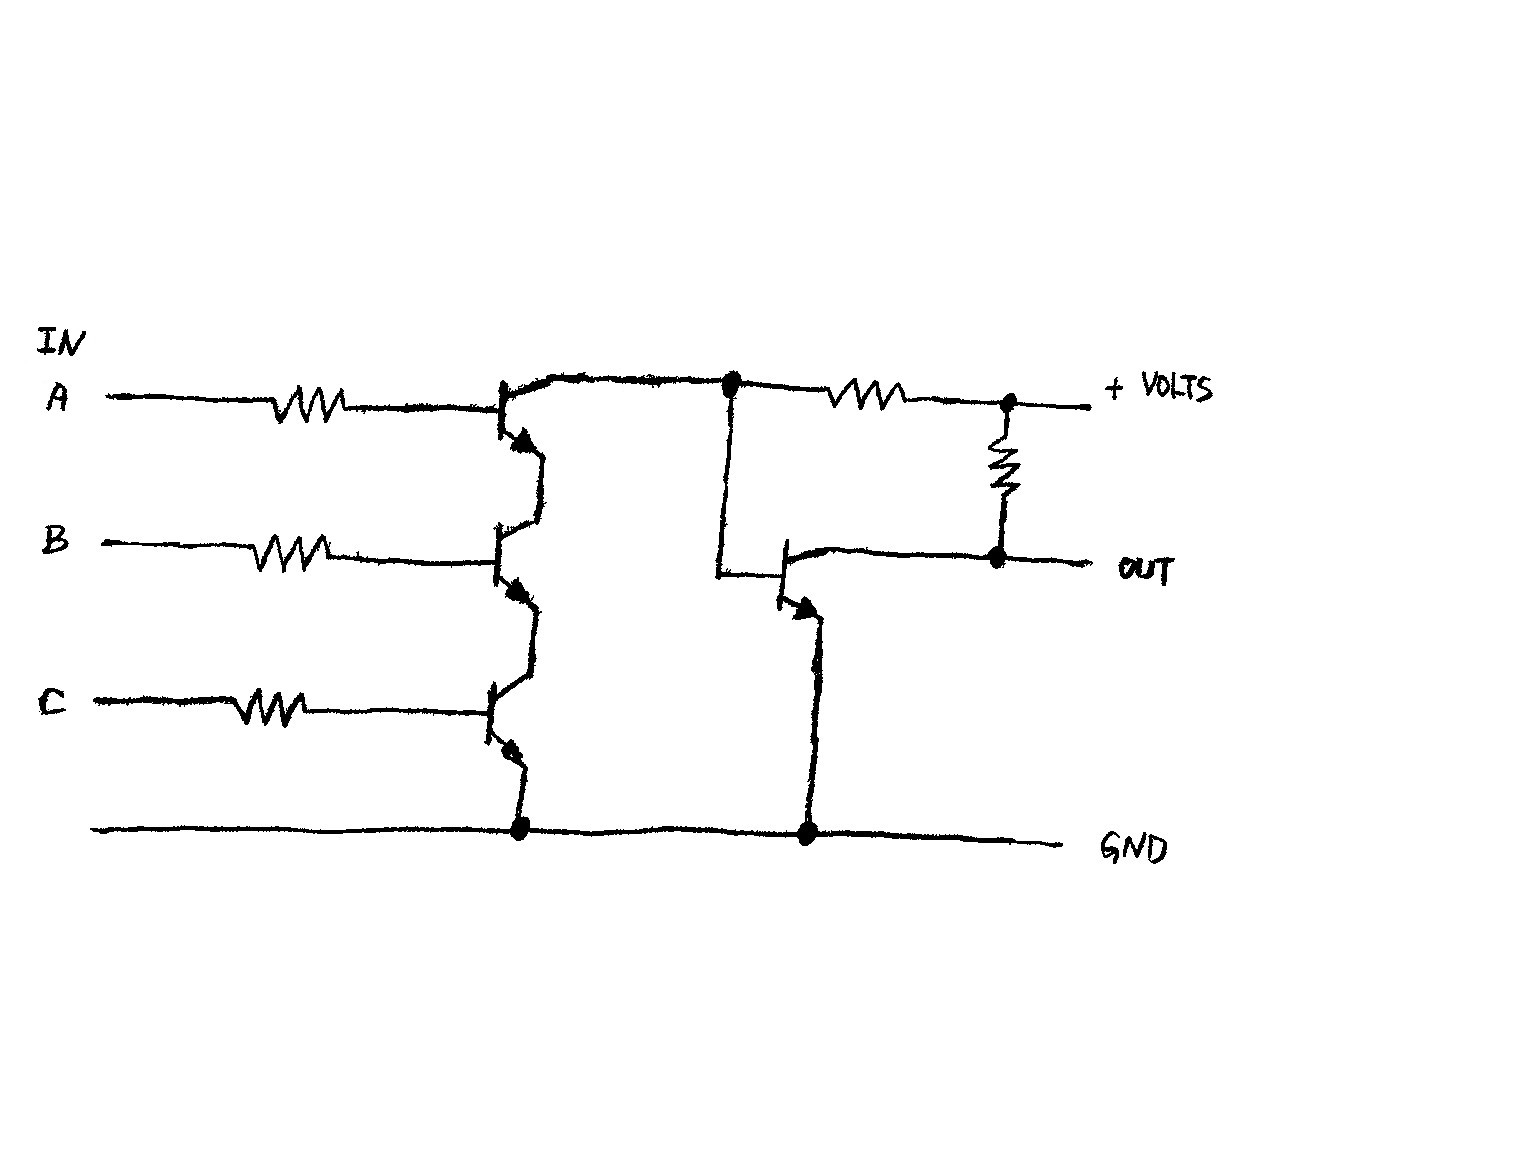junction: (783, 807, 834, 857), (494, 800, 541, 849), (976, 537, 1023, 579), (990, 371, 1024, 418), (716, 363, 747, 406)
resistor: (262, 382, 356, 428), (225, 685, 317, 731), (247, 529, 337, 575), (817, 375, 913, 414), (985, 429, 1023, 507)
terminal: (1076, 549, 1099, 574), (81, 819, 104, 841), (1050, 833, 1070, 856), (98, 387, 119, 407), (94, 532, 113, 552), (88, 689, 106, 710), (1080, 398, 1097, 415)
text: (1113, 537, 1184, 597), (1096, 818, 1171, 872), (1139, 363, 1217, 408), (30, 308, 93, 362), (22, 667, 72, 728), (35, 373, 81, 427), (33, 514, 81, 565), (1099, 368, 1128, 412)
transistor.bjt: (480, 352, 576, 474), (481, 509, 567, 627), (476, 665, 563, 778), (770, 527, 852, 644)
